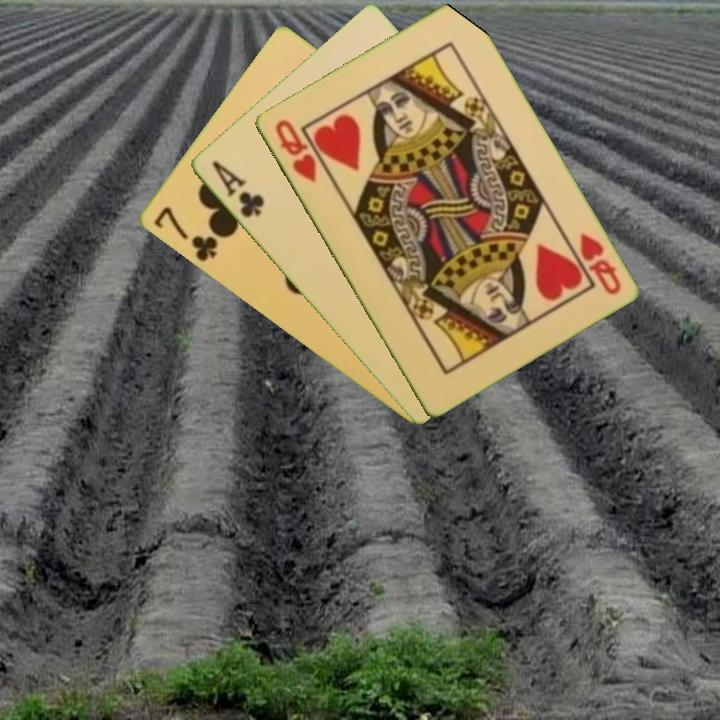7c: (149, 203, 220, 265)
Ac: (208, 157, 267, 221)
Qh: (271, 115, 319, 186), (575, 229, 624, 298)
